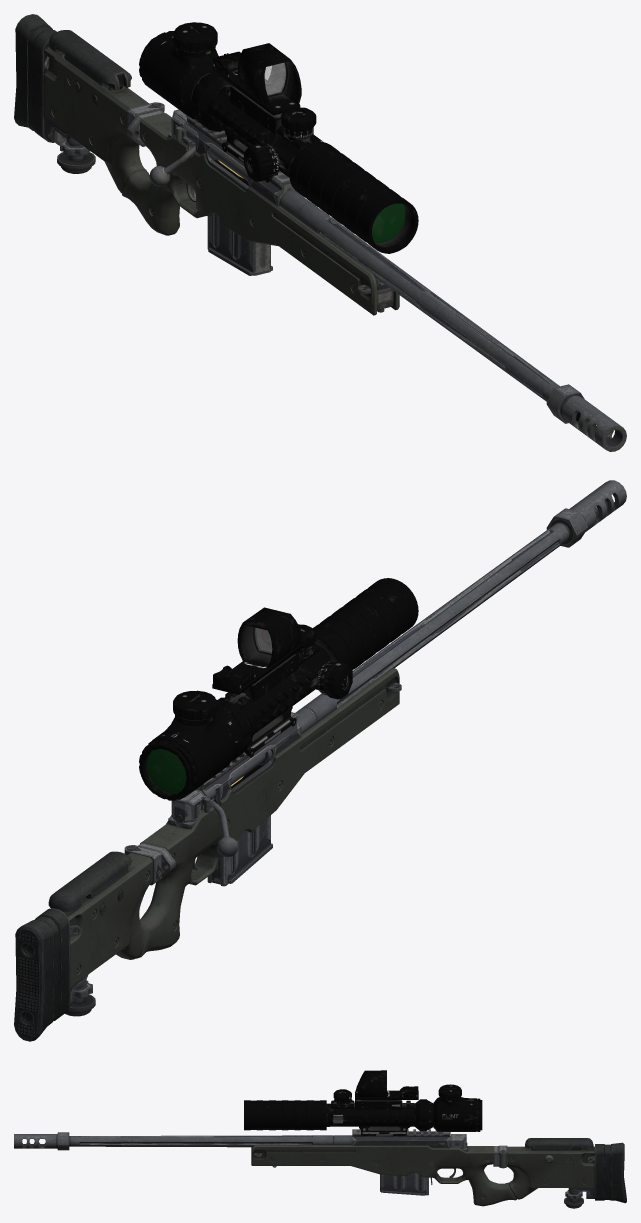
Rendered from sniper.glb.
3 views of the same model, one above another, from view 1: azimuth 30°, elevation 25°; view 2: azimuth 150°, elevation 25°; view 3: azimuth 270°, elevation 25° (orthographic). The views are drawn at different scales.
Visible parts, largest first — view 1: base_2, MainScope_Lowpoly_15, ExtraScope_Lowpoly_11, mag_6, ScopeGlass_Lowpoly_14, bolt_3; view 2: base_2, MainScope_Lowpoly_15, ExtraScope_Lowpoly_11, mag_6, ScopeGlass_Lowpoly_14, bolt_3, boltback_4; view 3: base_2, MainScope_Lowpoly_15, ExtraScope_Lowpoly_11, mag_6, boltback_4.
Part boxes in pixels (<box>): base_2: <box>14,14,626,451</box>; MainScope_Lowpoly_15: <box>139,22,418,253</box>; ExtraScope_Lowpoly_11: <box>212,43,301,134</box>; mag_6: <box>207,213,272,275</box>; ScopeGlass_Lowpoly_14: <box>372,203,405,242</box>; bolt_3: <box>149,130,249,186</box>; base_2: <box>14,480,626,1041</box>; MainScope_Lowpoly_15: <box>139,578,418,800</box>; ExtraScope_Lowpoly_11: <box>212,607,301,701</box>; mag_6: <box>207,815,272,886</box>; ScopeGlass_Lowpoly_14: <box>146,749,186,793</box>; bolt_3: <box>205,749,272,857</box>; boltback_4: <box>171,789,210,825</box>; base_2: <box>14,1129,626,1208</box>; MainScope_Lowpoly_15: <box>244,1084,482,1135</box>; ExtraScope_Lowpoly_11: <box>355,1070,418,1109</box>; mag_6: <box>380,1172,428,1195</box>; boltback_4: <box>451,1134,467,1149</box>.
Bounding box in the file's own units: 0.1262 × 0.3985 × 1.68.
4 materials, 4 textured.
